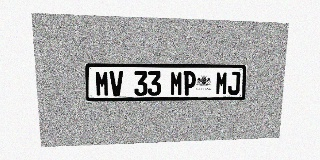3: (134, 71, 147, 96), (148, 71, 161, 96)
J: (227, 71, 240, 95)
M: (95, 71, 109, 96), (170, 71, 183, 95), (215, 71, 228, 95)
P: (183, 71, 196, 95)
V: (109, 71, 123, 96)
